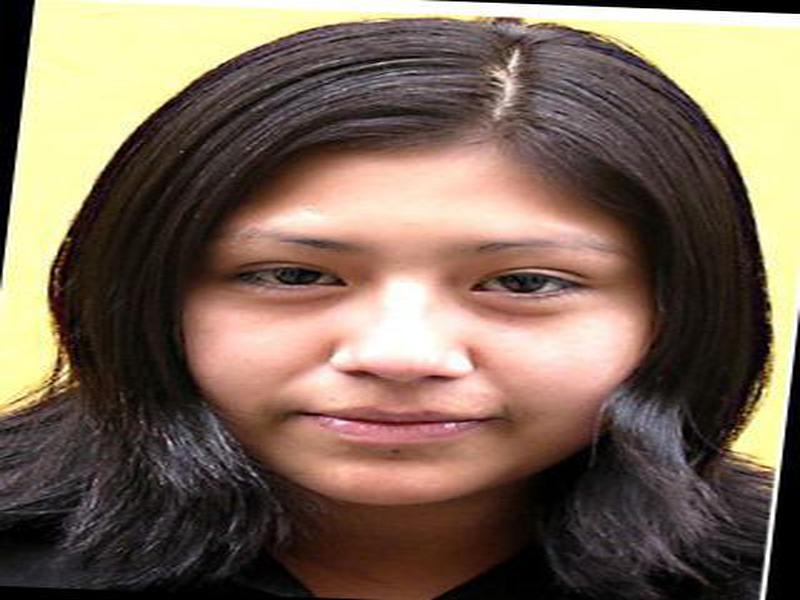without_mask: (183, 146, 642, 512)
